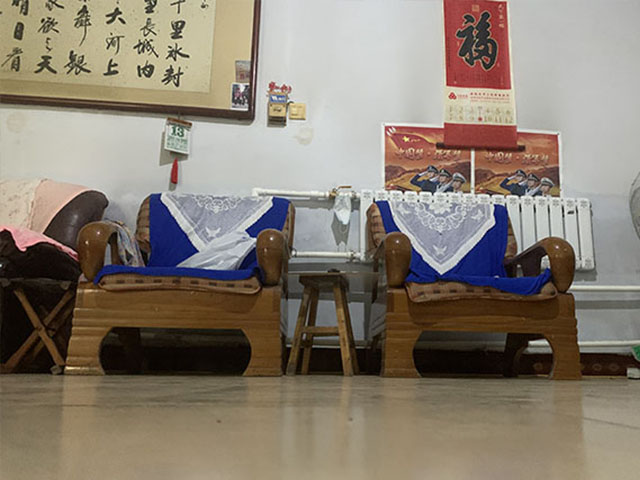sofa: (63, 190, 298, 379), (364, 196, 586, 381)
stool: (282, 270, 362, 377), (1, 275, 72, 375)
